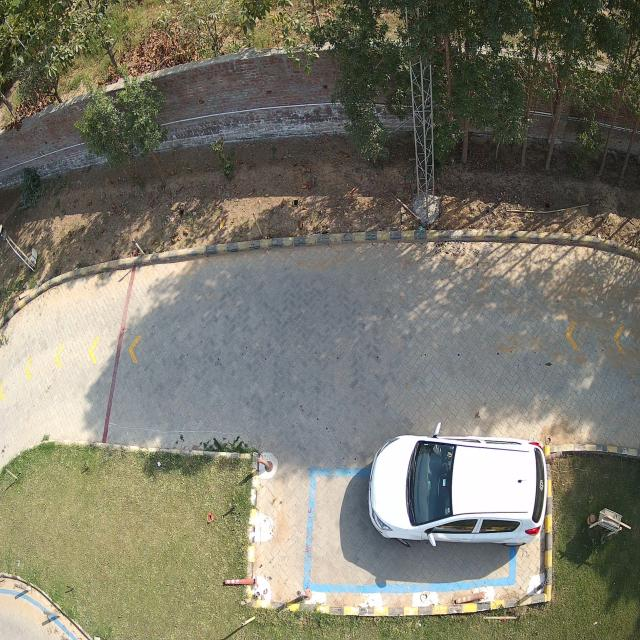car: (369, 435, 546, 545)
